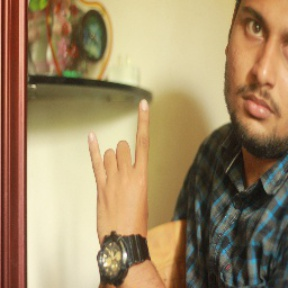V: (87, 97, 160, 239)
